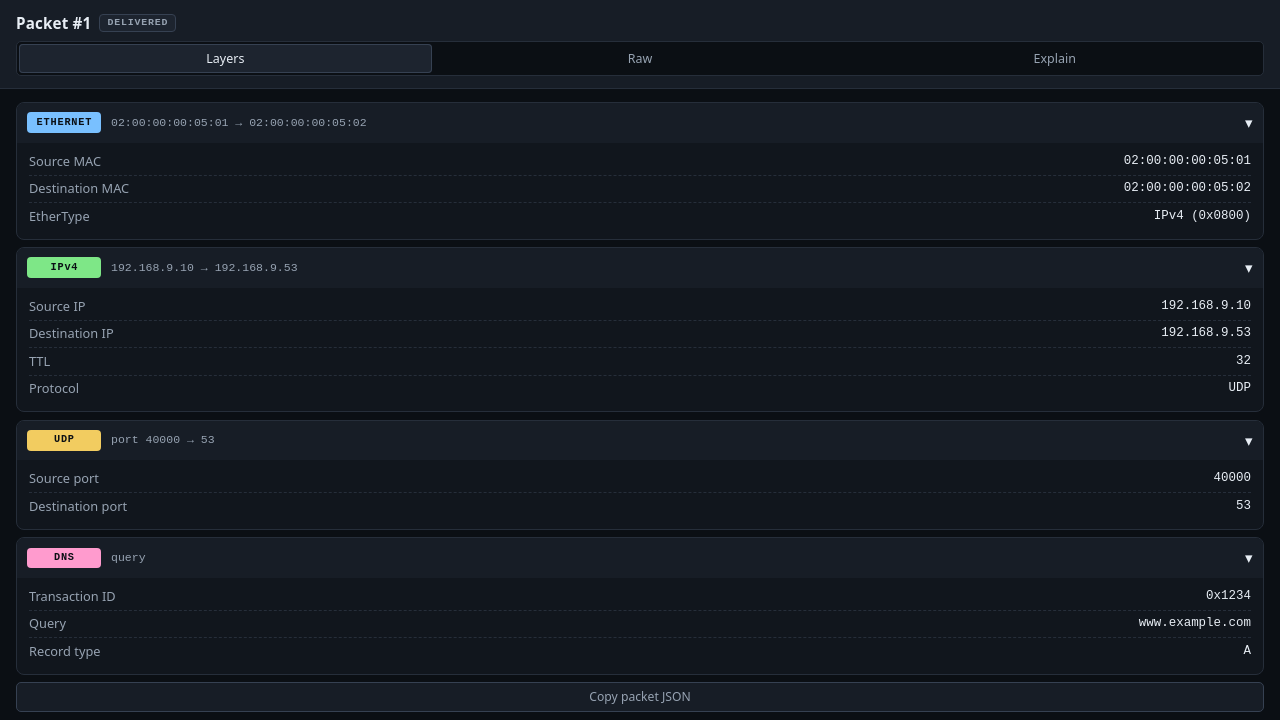
Test: PacketInspector › switches to raw and explain views
Click the tab "Raw" at (640, 59), box [434,44,846,73]
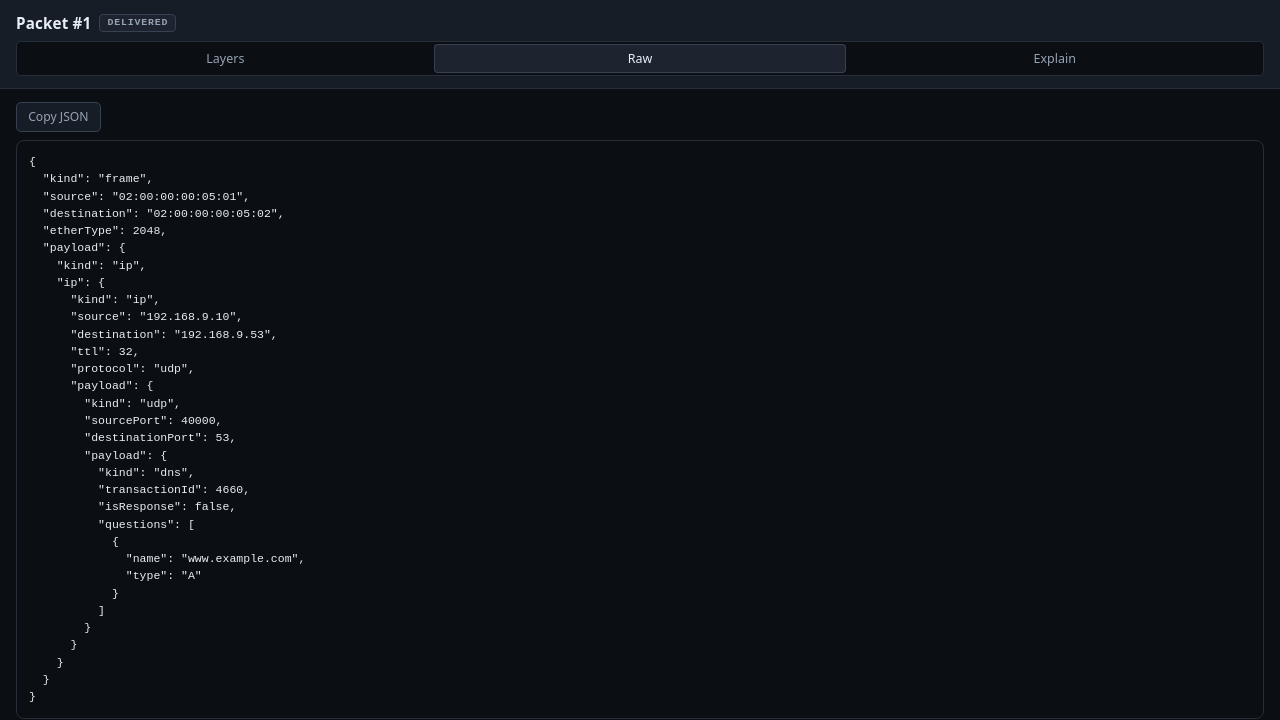
Expected: the text named "Raw packet JSON" shows "\"etherType\"", [29,155,305,703]
Click the tab "Explain" at (1055, 59), box [848,44,1261,73]
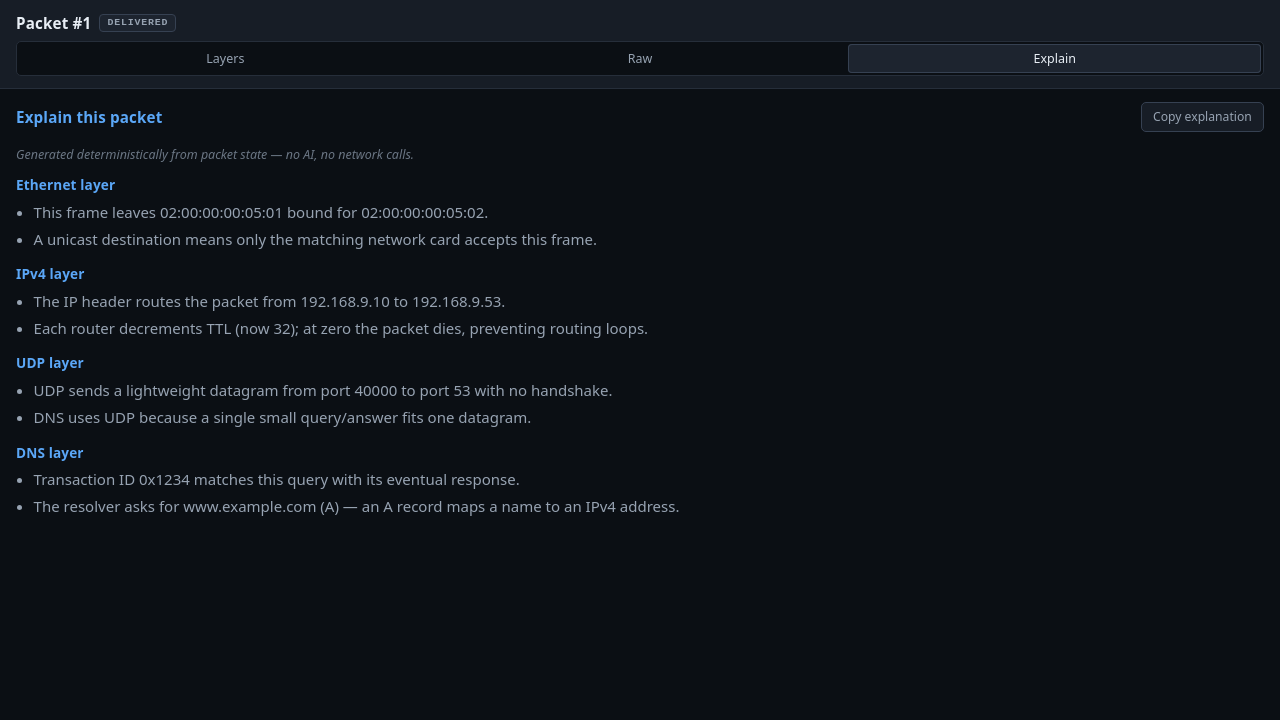
Expected: the heading "Ethernet layer" is shown, [16,175,115,194]
Expected: the text "deterministically" is shown, [16,146,414,162]
